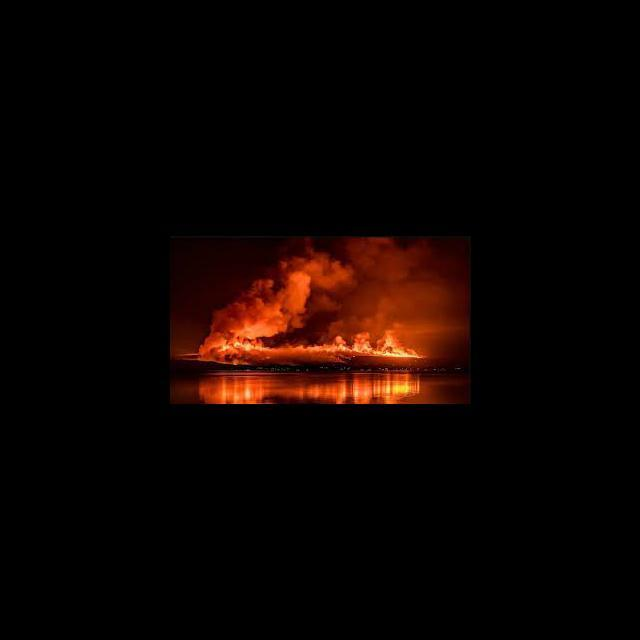Fire: (352, 344, 424, 360)
Smoke: (216, 240, 468, 342), (194, 342, 344, 364)
